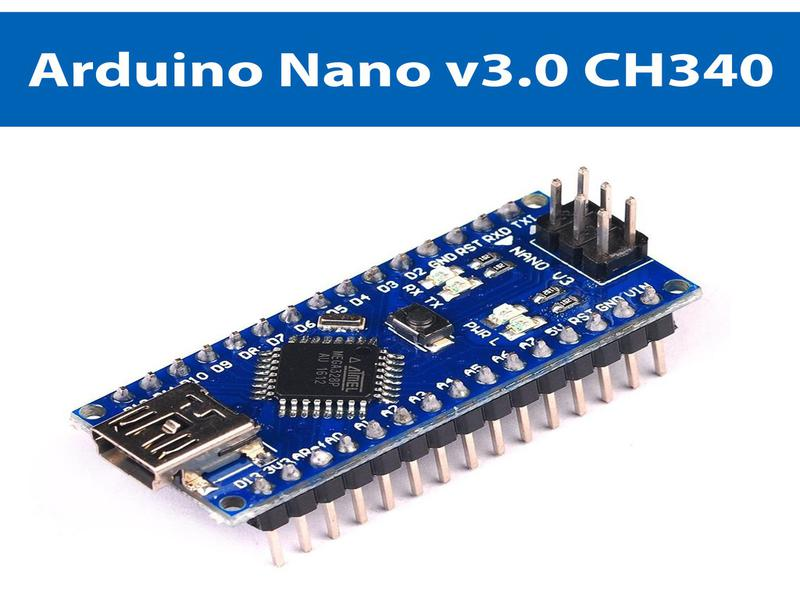Arduino_Nano: (64, 166, 703, 572)
